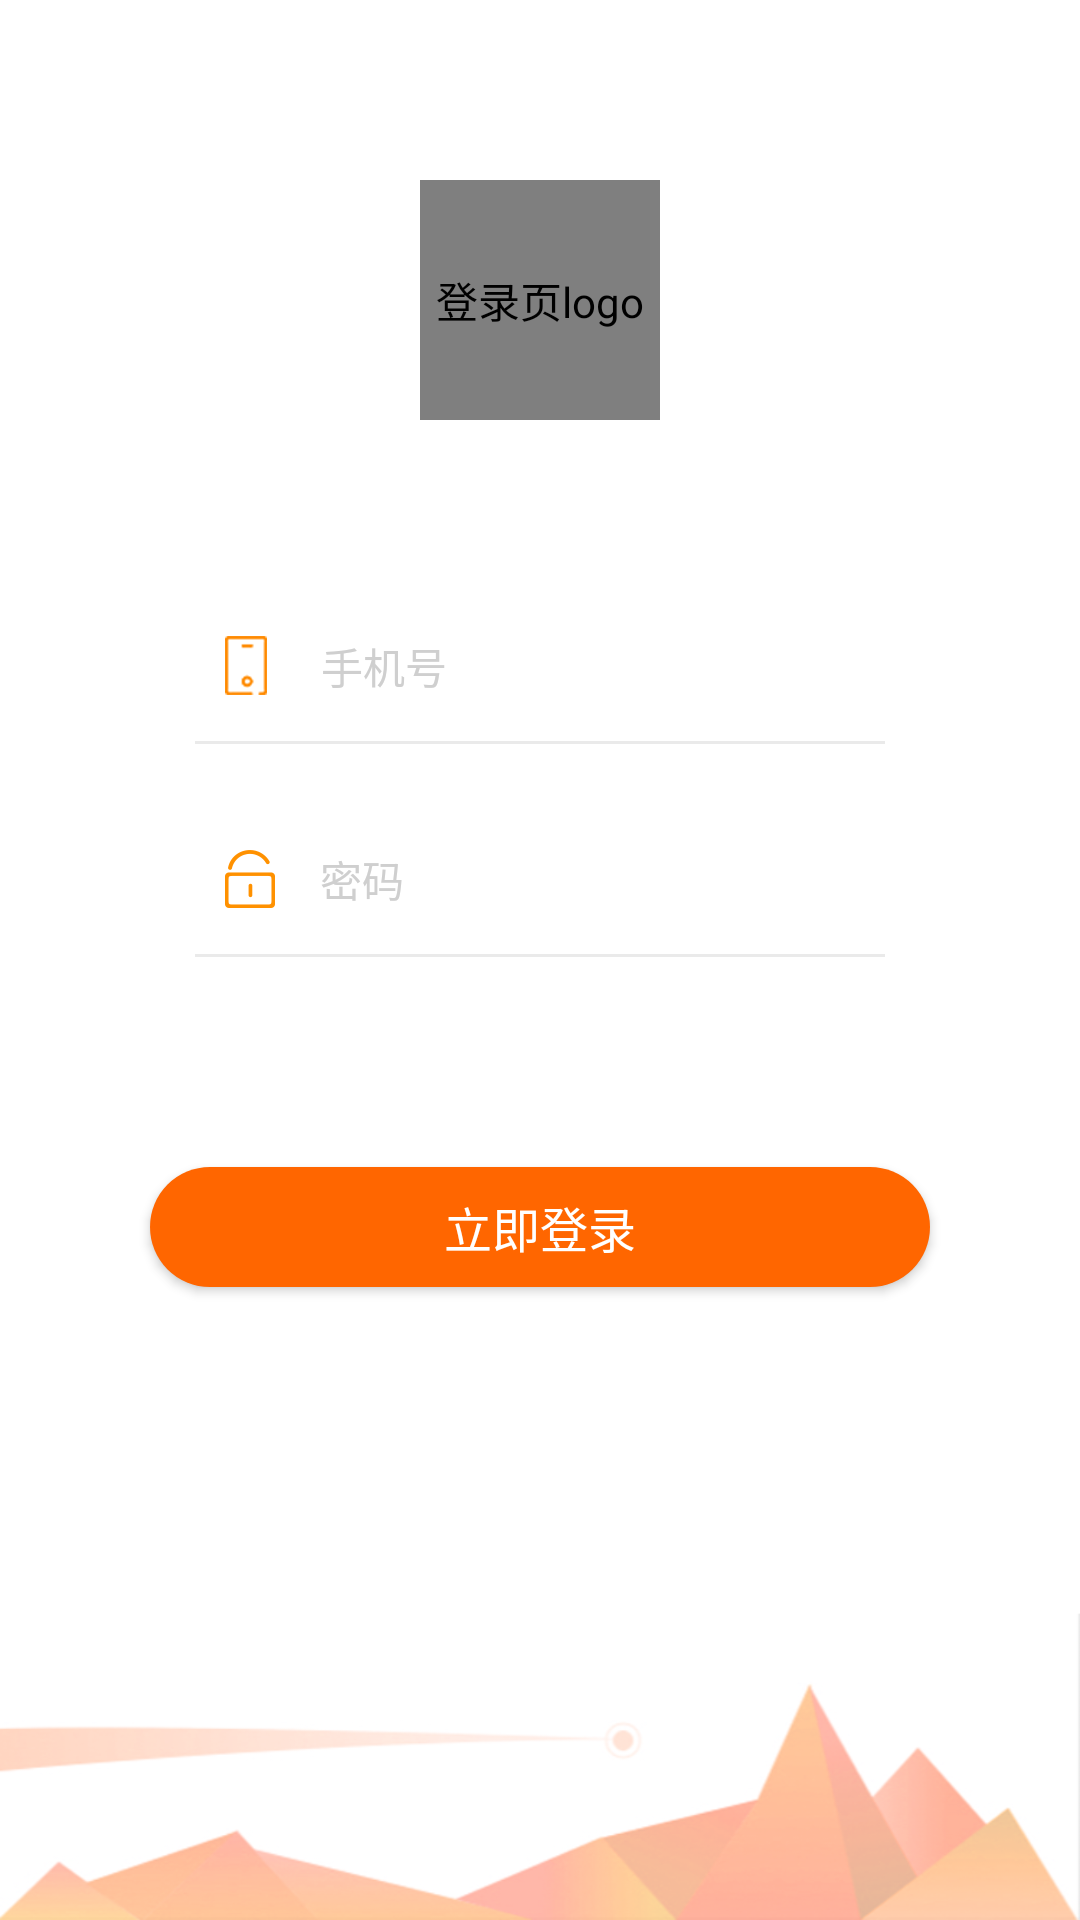

Screen size 1080w x 1920h. Icon name, then its center in pixels as (x=x, y=y):
登录页手机图片: (x=246, y=665)
登录页验证码图片: (x=250, y=879)
